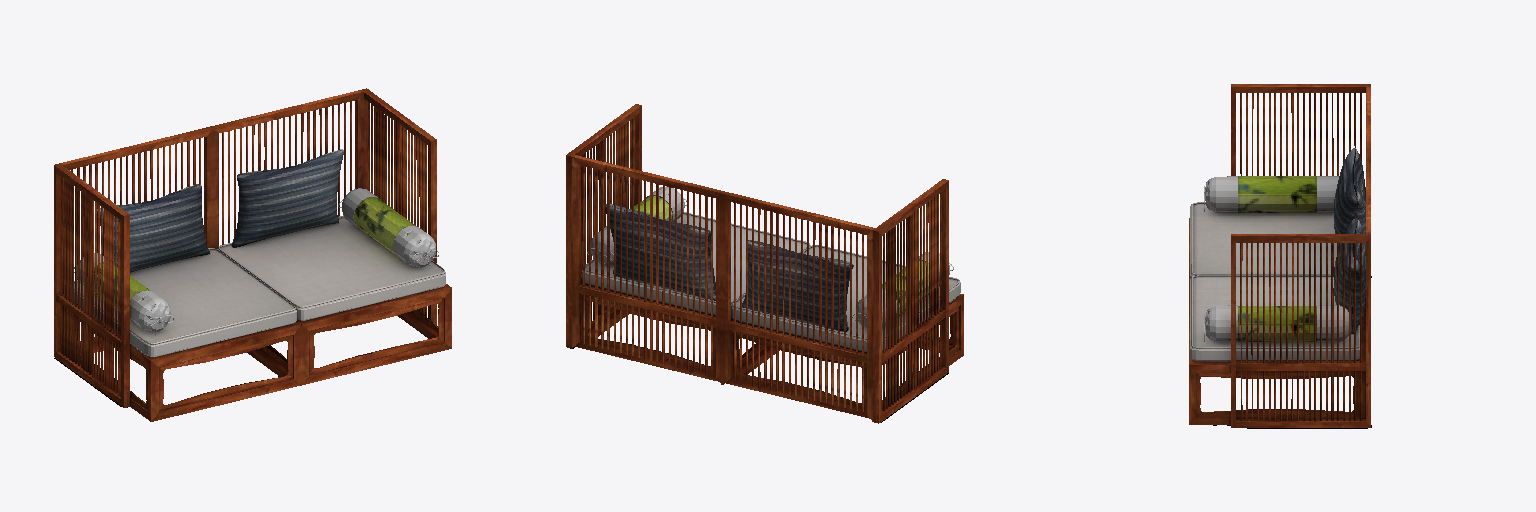
3 views of the same model, side by side, from view 1: azimuth 30°, elevation 25°; view 2: azimuth 150°, elevation 25°; view 3: azimuth 270°, elevation 25° (orthographic).
Visible parts, largest first — view 1: solid_004, solid_005, solid_003, solid_002, solid_006, solid_007, solid_001; view 2: solid_004, solid_003, solid_002, solid_005, solid_006, solid_001, solid_007; view 3: solid_004, solid_005, solid_003, solid_007, solid_002, solid_006, solid_001.
Part boxes in pixels (bbox=[...]): solid_004: bbox=[54, 92, 451, 421]; solid_005: bbox=[74, 217, 445, 356]; solid_003: bbox=[54, 88, 451, 421]; solid_002: bbox=[97, 149, 343, 272]; solid_006: bbox=[74, 188, 438, 335]; solid_007: bbox=[94, 197, 414, 310]; solid_001: bbox=[74, 215, 444, 357]; solid_004: bbox=[566, 107, 963, 423]; solid_003: bbox=[566, 104, 963, 422]; solid_002: bbox=[605, 204, 853, 331]; solid_005: bbox=[582, 214, 960, 351]; solid_006: bbox=[587, 186, 953, 328]; solid_001: bbox=[585, 212, 959, 351]; solid_007: bbox=[634, 194, 928, 315]; solid_004: bbox=[1189, 87, 1370, 426]; solid_005: bbox=[1190, 204, 1359, 360]; solid_003: bbox=[1189, 84, 1370, 427]; solid_007: bbox=[1227, 176, 1325, 341]; solid_002: bbox=[1334, 148, 1365, 333]; solid_006: bbox=[1204, 176, 1348, 341]; solid_001: bbox=[1191, 202, 1359, 361].
Size of the model in its own units: 2.11 by 1.2 by 1.1.
1 materials, 1 textured.